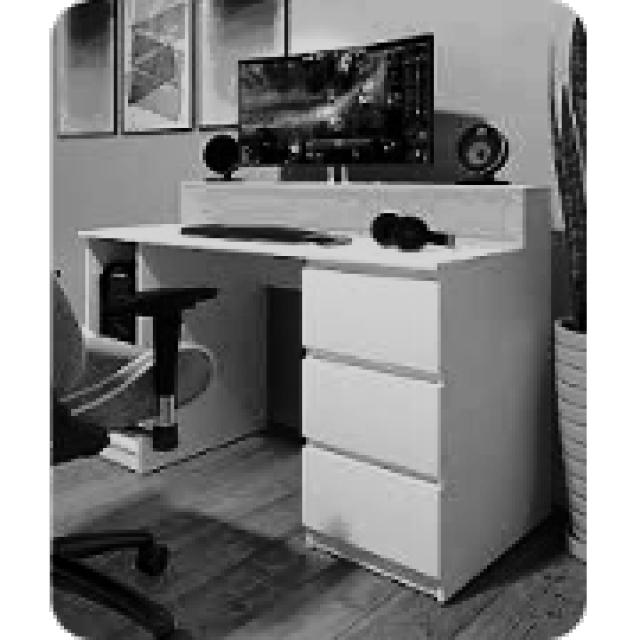table: (74, 178, 554, 604)
